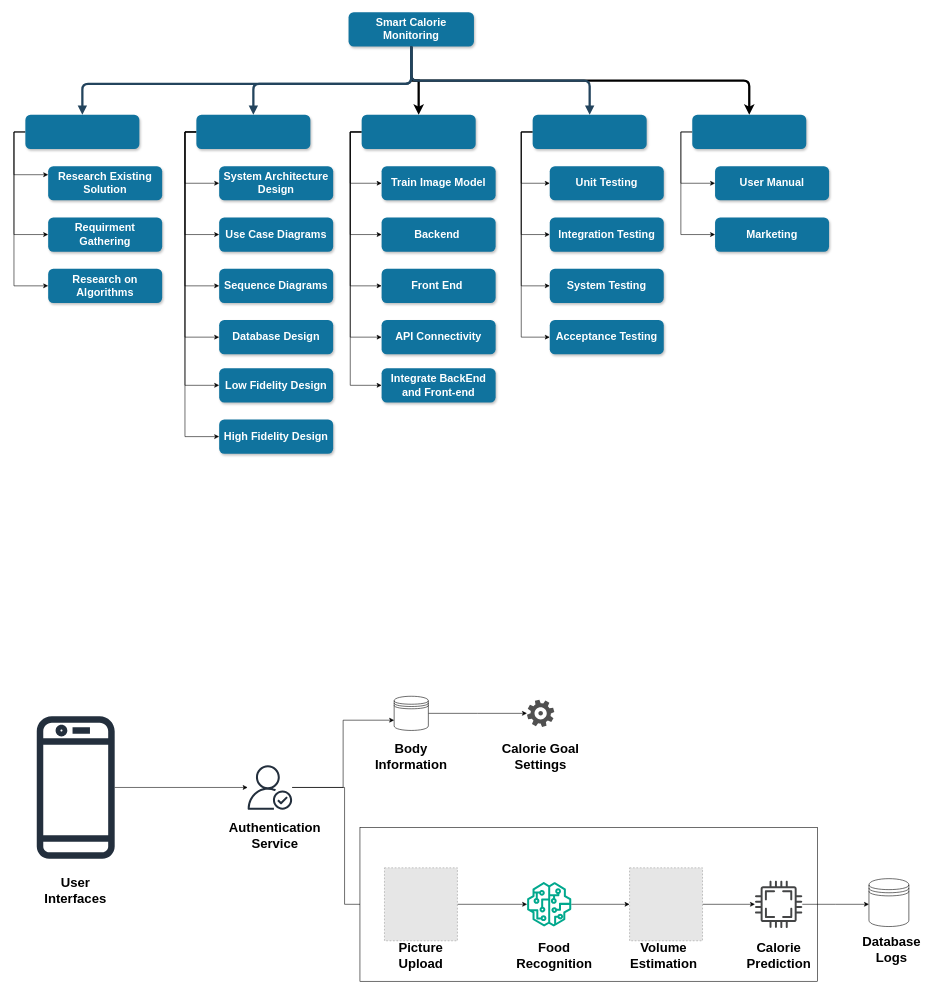
The diagram is 931 pixels wide and 991 high, and some of its shapes have lost their labels. Grey dashed boxes stand in for pictures. Each missing label, with the centre of its shape:
"Deployment" belongs at (749,132).
"Design" belongs at (254,132).
"Implementation" belongs at (419,132).
"Research" belongs at (82,132).
"Testing" belongs at (590,132).
